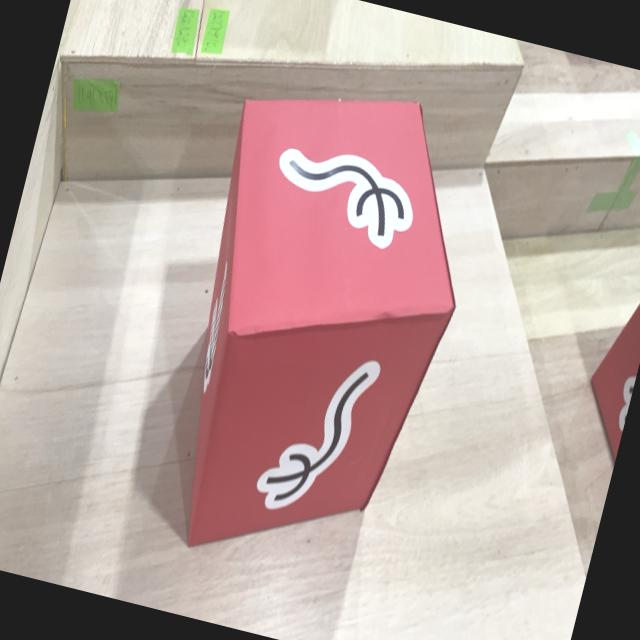13: (251, 340, 383, 528), (262, 137, 424, 254), (193, 260, 239, 394)
fighter: (136, 60, 502, 598), (570, 255, 640, 471)
